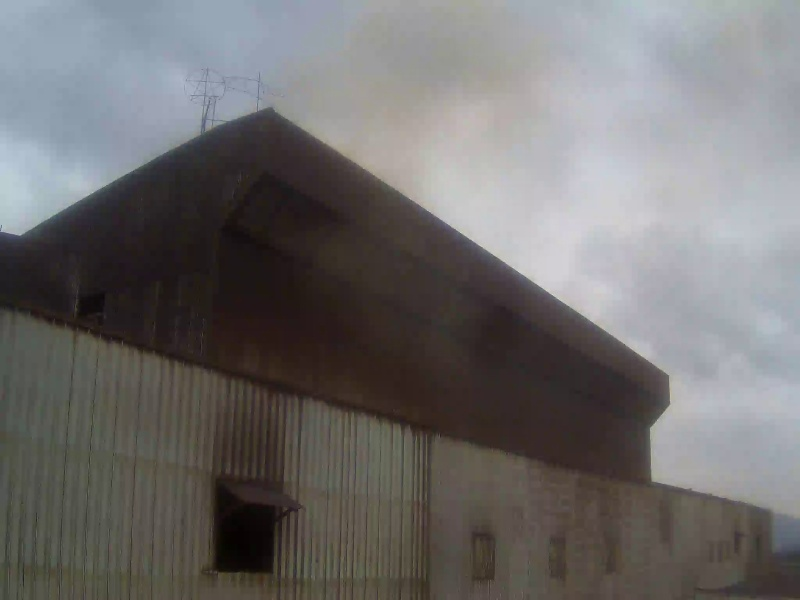bom: (551, 89, 794, 442), (1, 2, 255, 225)
ruim: (281, 2, 504, 240)
